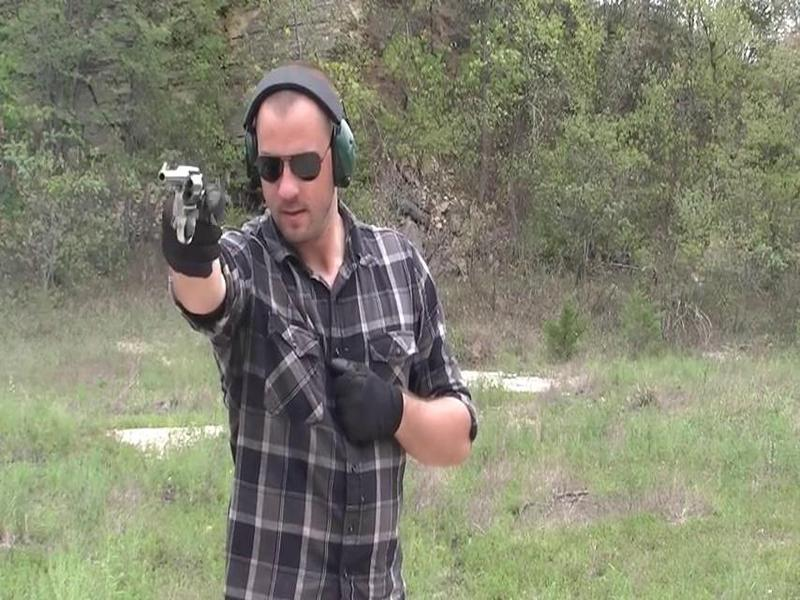Revolver: (157, 153, 214, 254)
